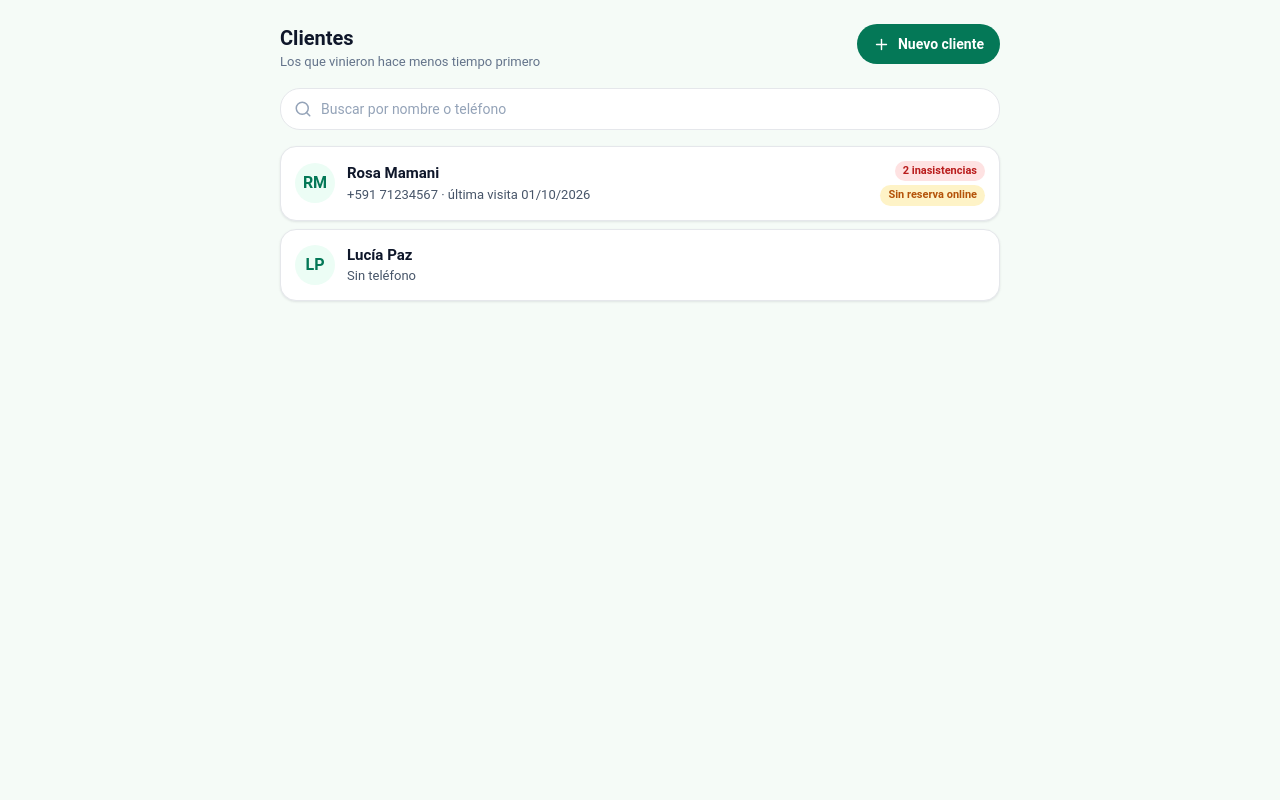
Scenario: A7 · Clientes › la ficha trae el historial de citas con quién la atendió, y las compras
Click the button with aria-label "Ver la ficha de Rosa Mamani" at (315, 183), box [280,146,1000,220]
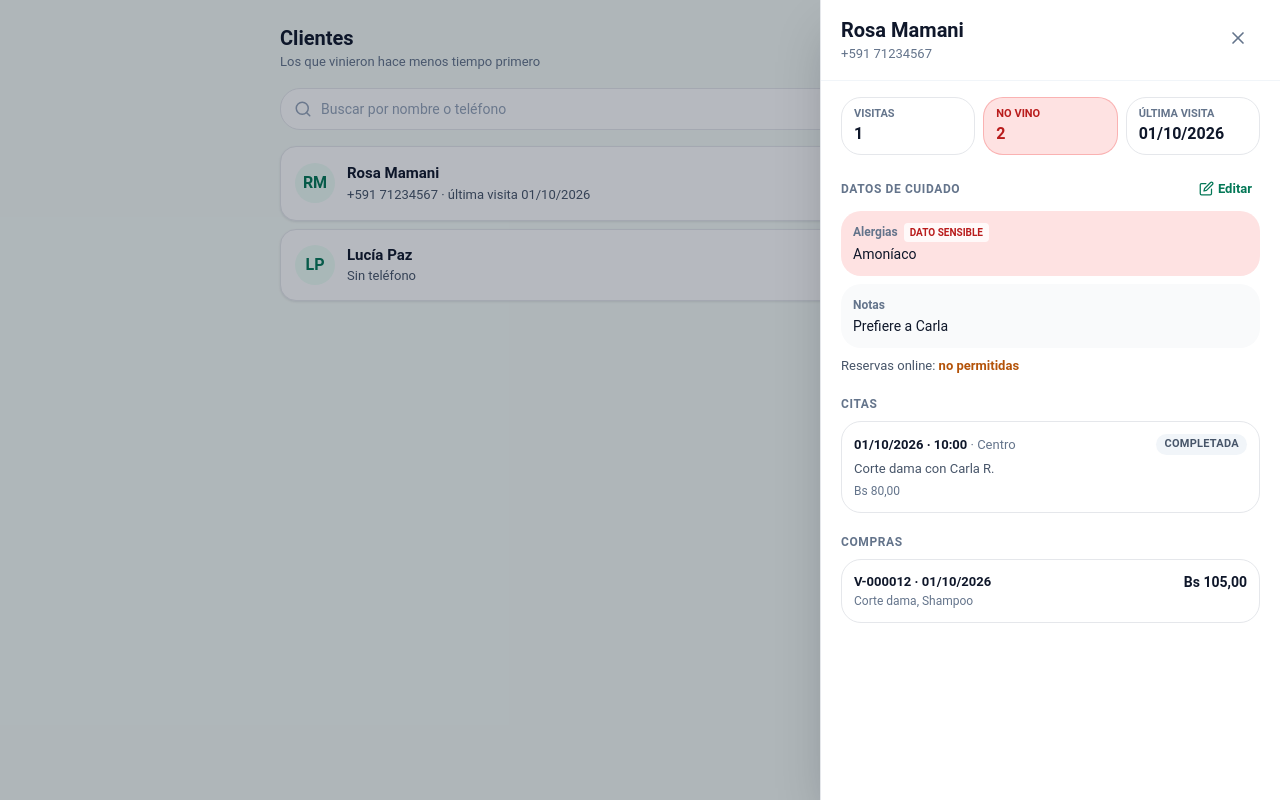
Now the text "Corte dama con Carla R." is shown, box [854,460,994,476]
Now the text "V-000012 · 01/10/2026" is shown, box [854,574,991,589]
Now the text "Corte dama, Shampoo" is shown, box [854,594,973,608]
